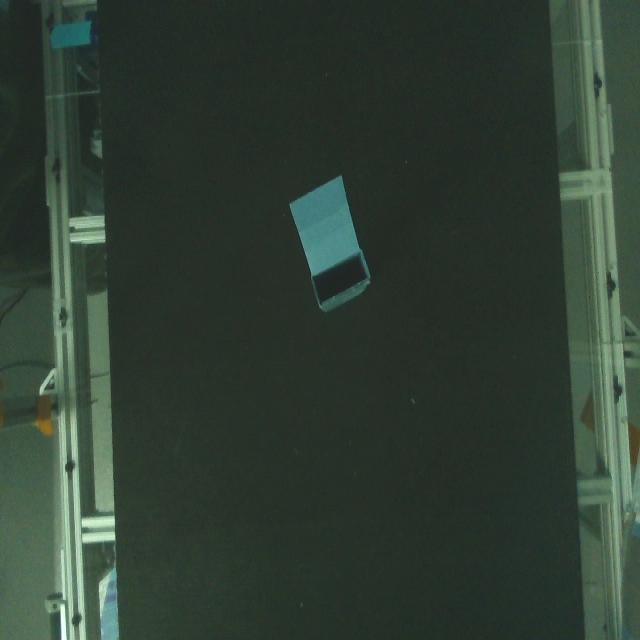paper: (282, 169, 382, 319)
